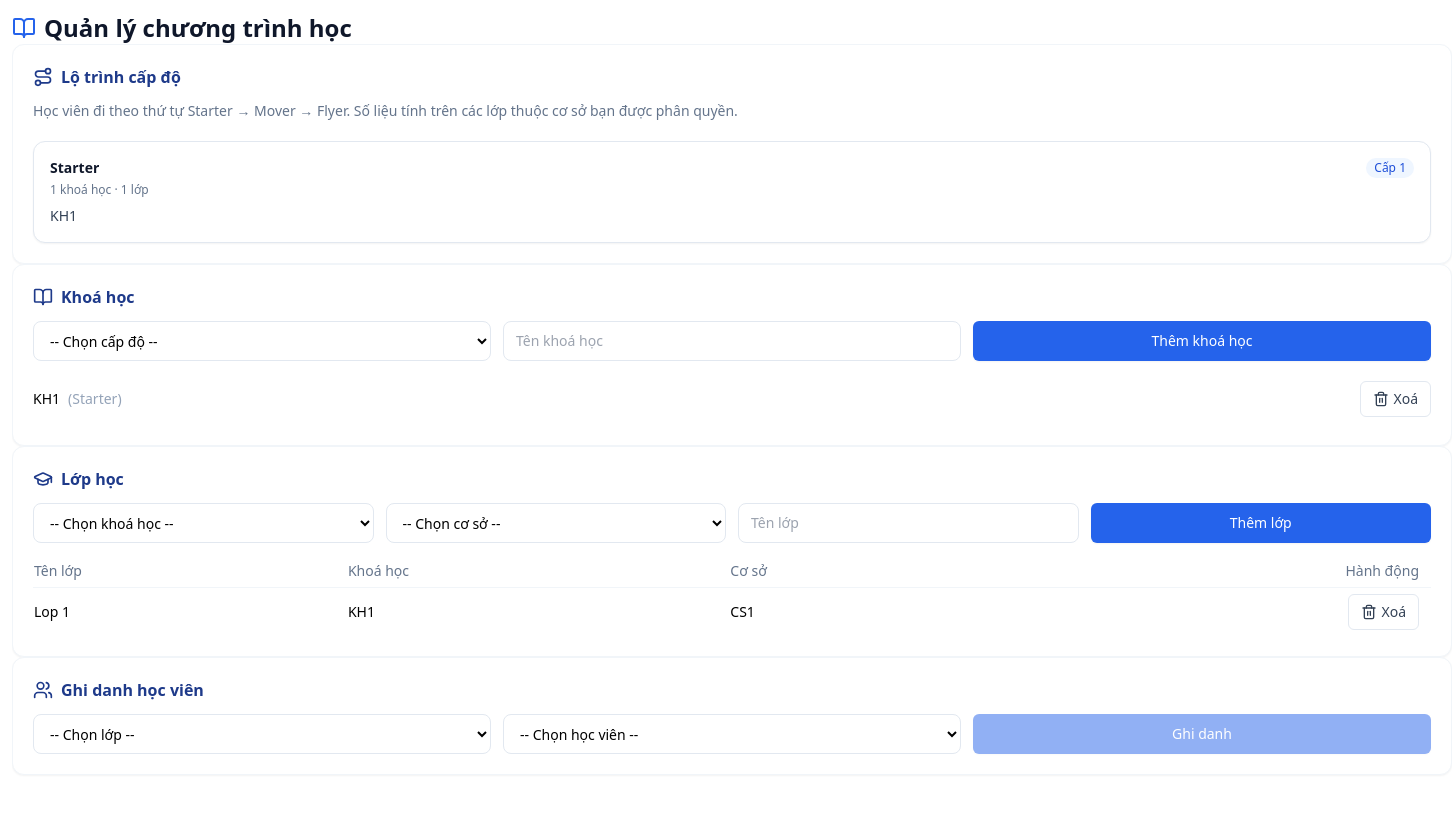
Test: CatalogPage › shows the server message when deleting a class that still has students (slice-28)
Expected: the text "Lop 1" is shown, [33,588,347,636]
Click the button "Xoá" in the row of "Lop 1".
click(1384, 612)  # box [1348,594,1419,630]
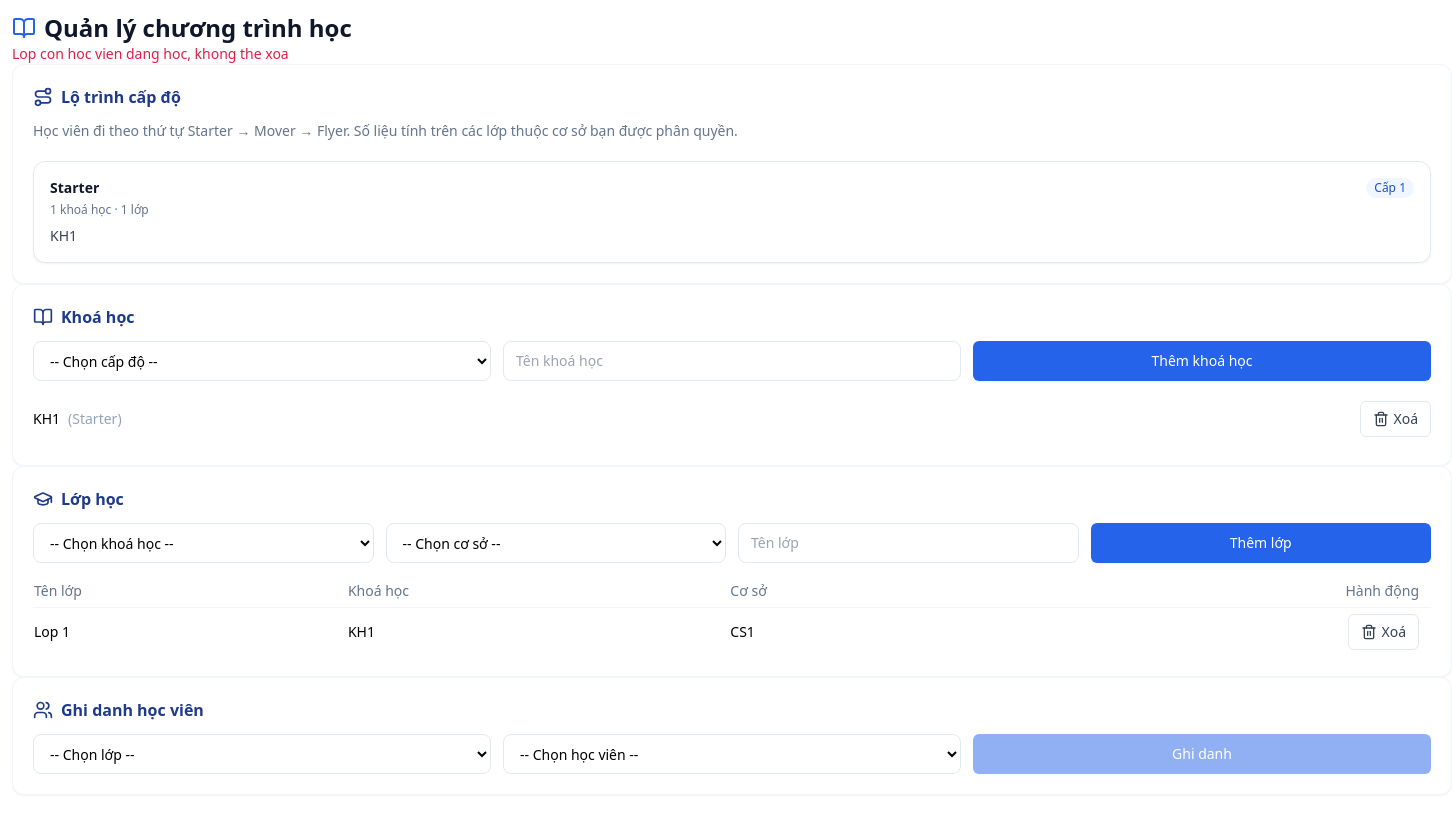
Expected: the message reads "Lop con hoc vien dang hoc, khong the xoa", [12,44,289,63]
